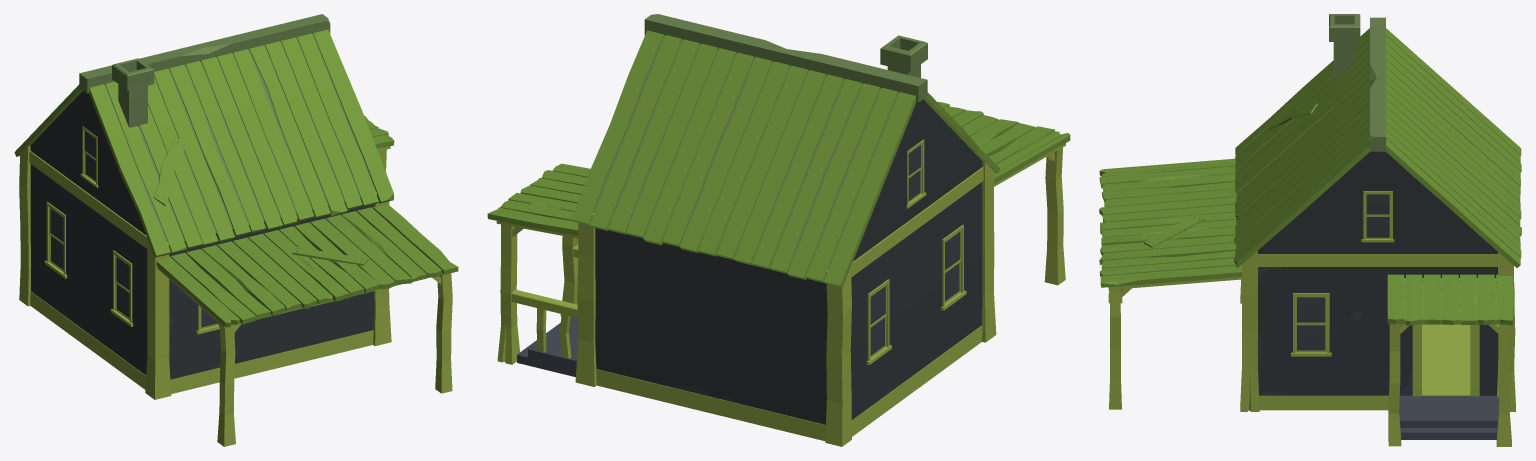
Rendered from House_06.fbx.
3 views of the same model, side by side, from view 1: azimuth 30°, elevation 25°; view 2: azimuth 150°, elevation 25°; view 3: azimuth 270°, elevation 25° (orthographic). The views are drawn at different scales.
Parts seen in each view (by area): view 1: House_06; view 2: House_06; view 3: House_06.
Part boxes in pixels (left/top/right/bottom): House_06: left=14, top=14, right=458, bottom=446; House_06: left=487, top=14, right=1070, bottom=446; House_06: left=1099, top=14, right=1521, bottom=446.
Bounding box in the file's own units: 6.98 × 6.01 × 7.92.
